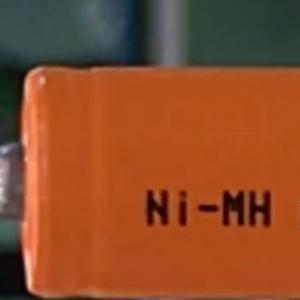keyword: (136, 181, 281, 236)
